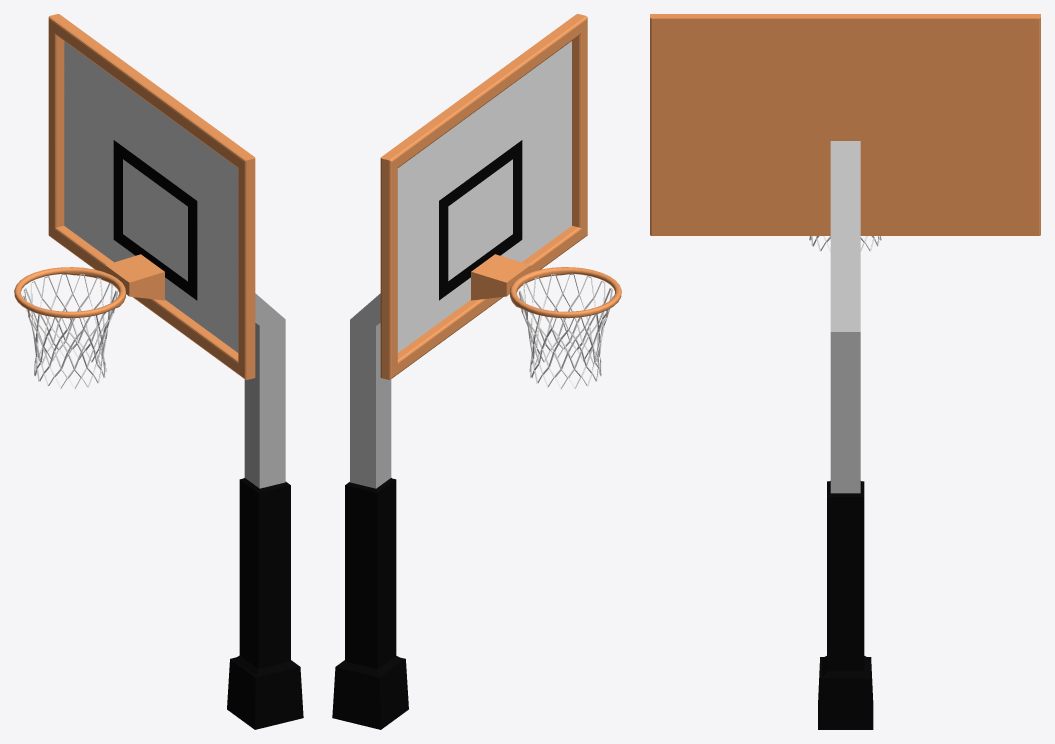
File: Basketball_Hoop.fbx
3 views of the same model, side by side, from view 1: azimuth 30°, elevation 25°; view 2: azimuth 150°, elevation 25°; view 3: azimuth 270°, elevation 25° (orthographic).
Visible parts, largest first — view 1: Basketball_Hoop_1; view 2: Basketball_Hoop_1; view 3: Basketball_Hoop_1.
Part boxes in pixels (<box>): Basketball_Hoop_1: <box>14,14,303,729</box>; Basketball_Hoop_1: <box>332,14,621,729</box>; Basketball_Hoop_1: <box>650,14,1040,729</box>.
Bounding box in the file's own units: 69.12 × 161 × 88.2.
